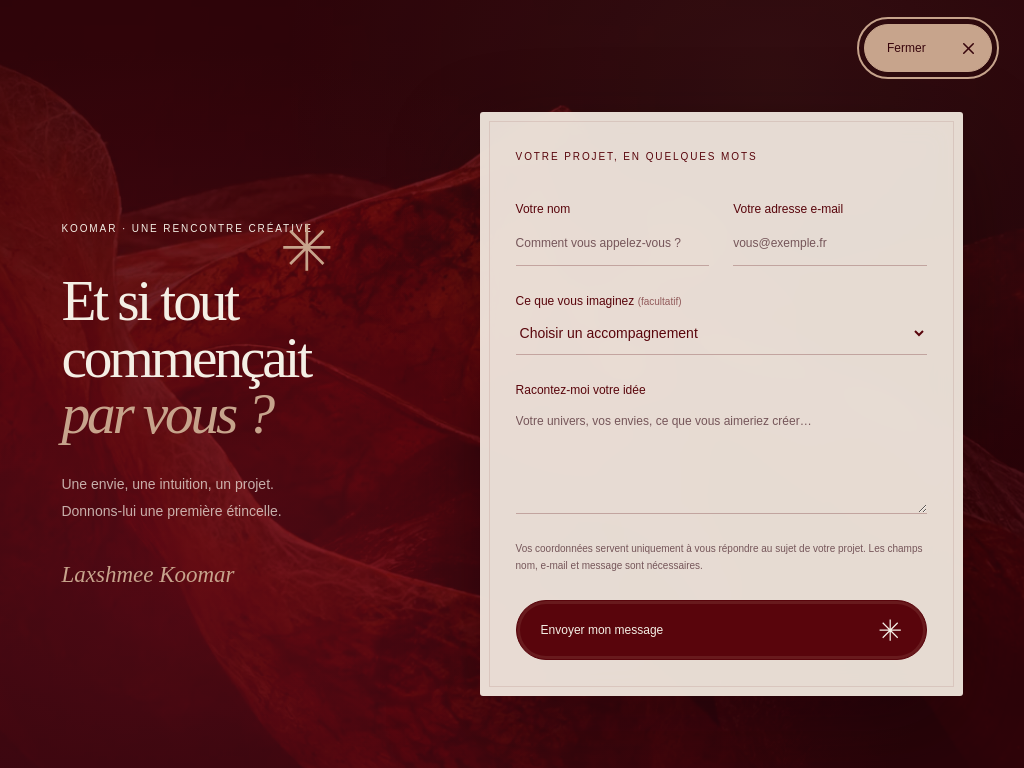
Test: ContactDialog › explique que l’aperçu local ne peut pas envoyer de messages
Type "Camille" into the field labelled "Votre nom" at (612, 243), box [516, 219, 709, 266]
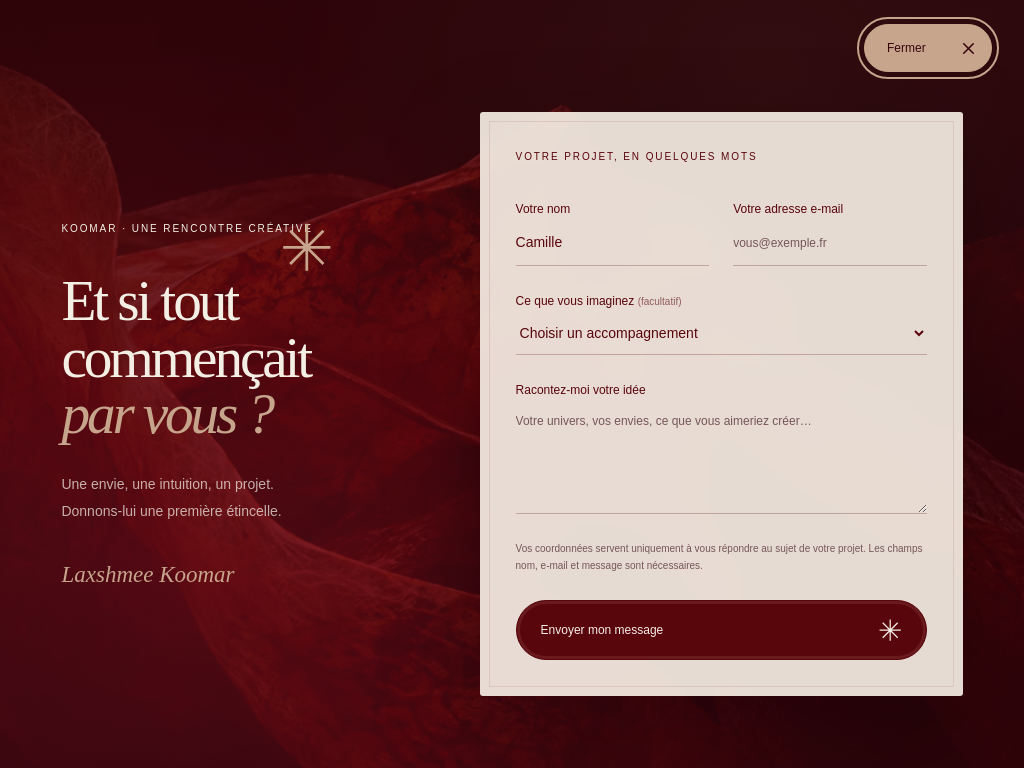
Type "camille@example.com" into the field labelled "Votre adresse e-mail" at (830, 243), box [733, 219, 927, 266]
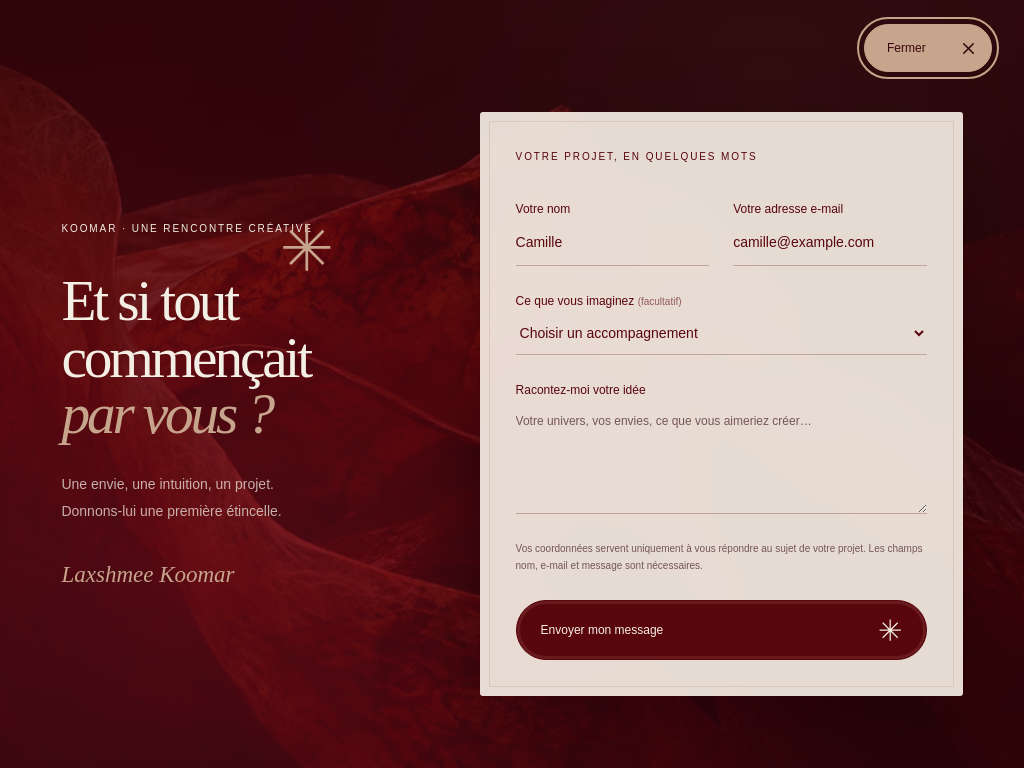
Type "Une nouvelle identité pour notre atelier." into the text box labelled "Racontez-moi votre idée" at (721, 457), box [516, 400, 927, 514]
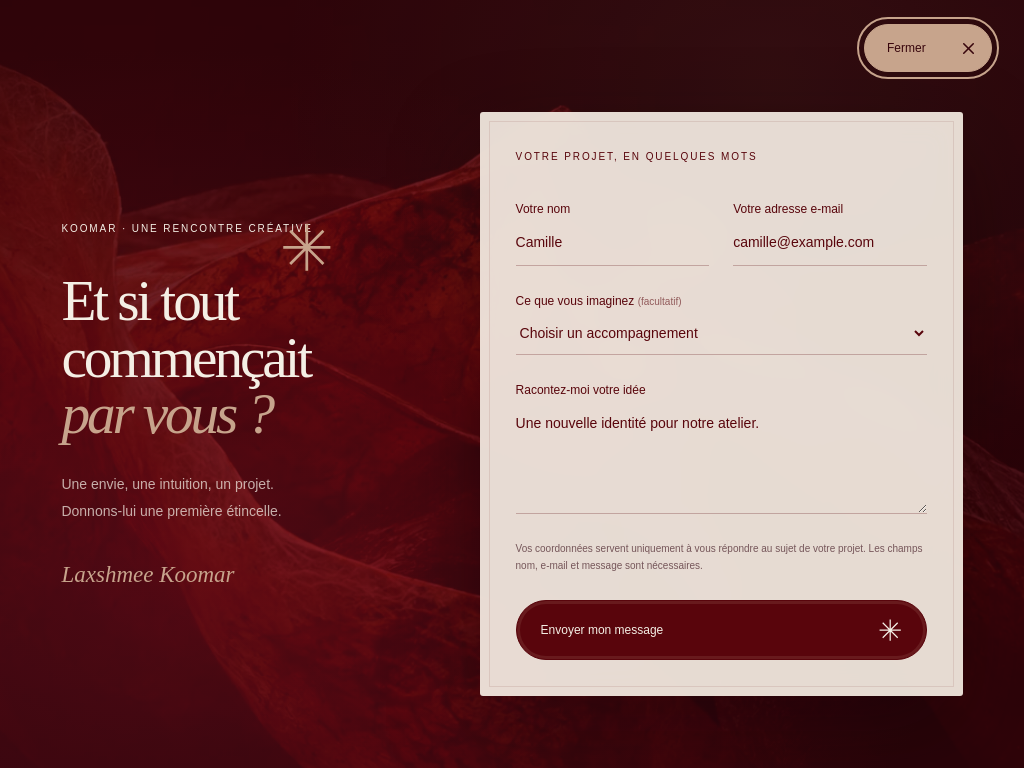
Click the button "Envoyer mon message" at (602, 630), box [516, 600, 927, 660]
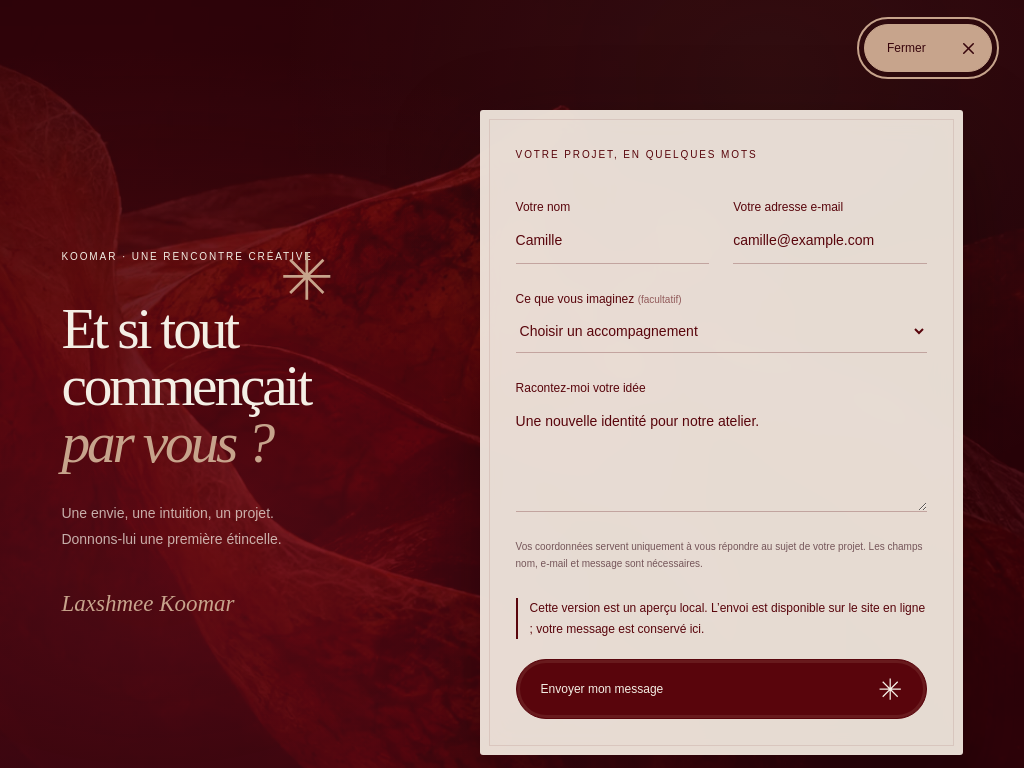
Expected: the message shows "aperçu local", [530, 601, 925, 636]
